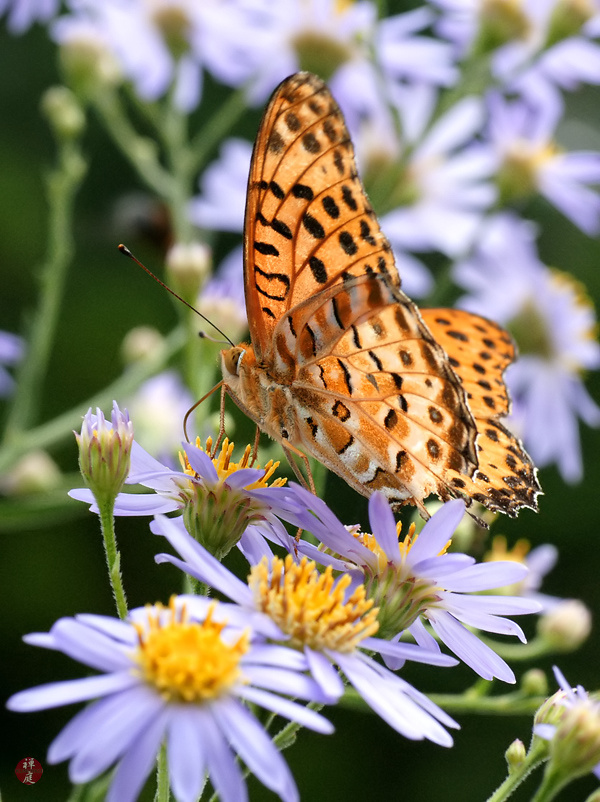Argyreus hyperbius: (114, 66, 547, 560)
butterfly: (112, 64, 545, 558)
